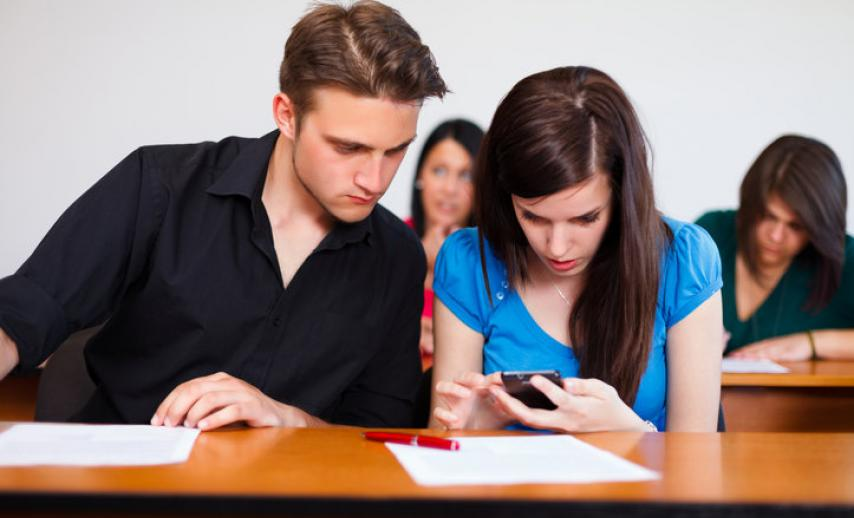cheating: (258, 5, 420, 225), (491, 78, 651, 289)
phone: (498, 369, 568, 410)
